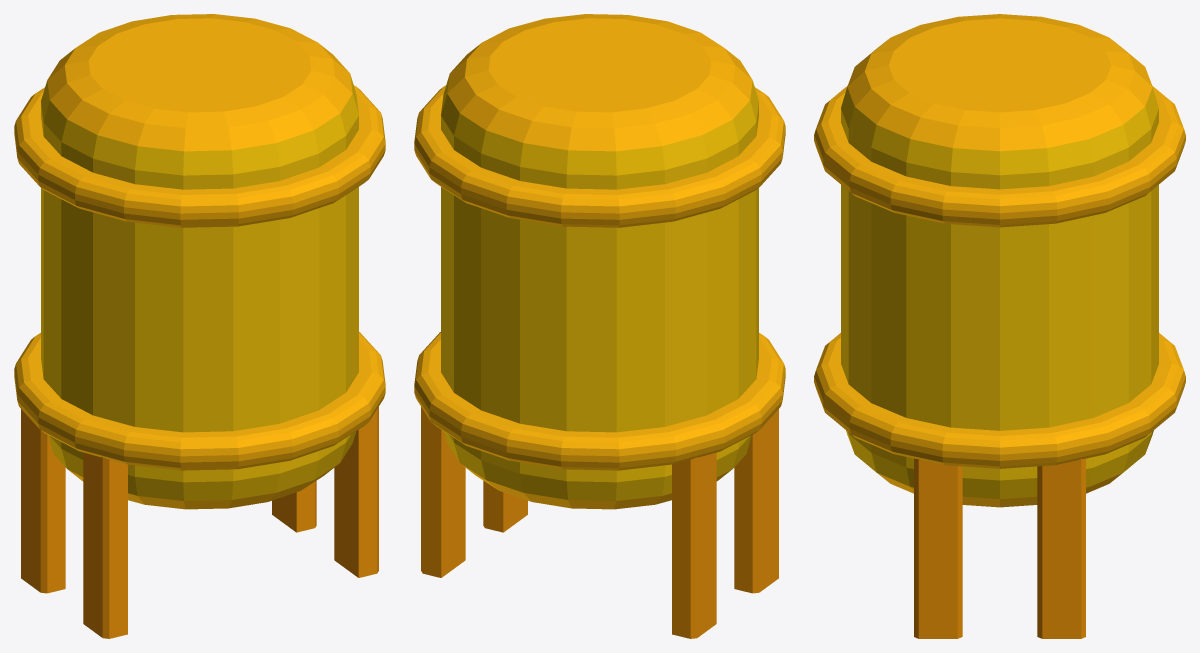
Rendered from Building_025.fbx.
3 views of the same model, side by side, from view 1: azimuth 30°, elevation 25°; view 2: azimuth 150°, elevation 25°; view 3: azimuth 270°, elevation 25° (orthographic).
Parts seen in each view (by area): view 1: Building_025; view 2: Building_025; view 3: Building_025.
Boxes of the visible parts, <box> form: Building_025: <box>14,14,385,638</box>; Building_025: <box>414,14,785,638</box>; Building_025: <box>814,14,1185,638</box>.
Bounding box in the file's own units: 14.25 × 21.43 × 14.25.
